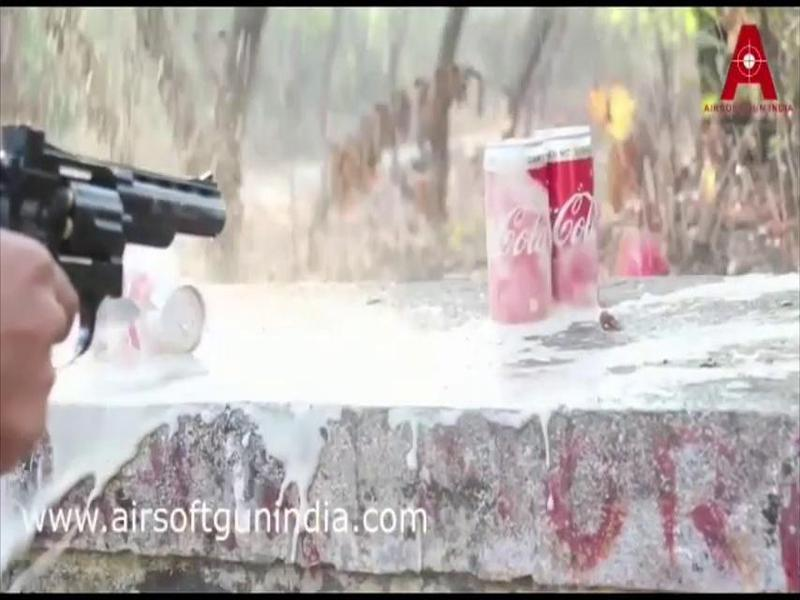Revolver: (7, 108, 273, 365)
